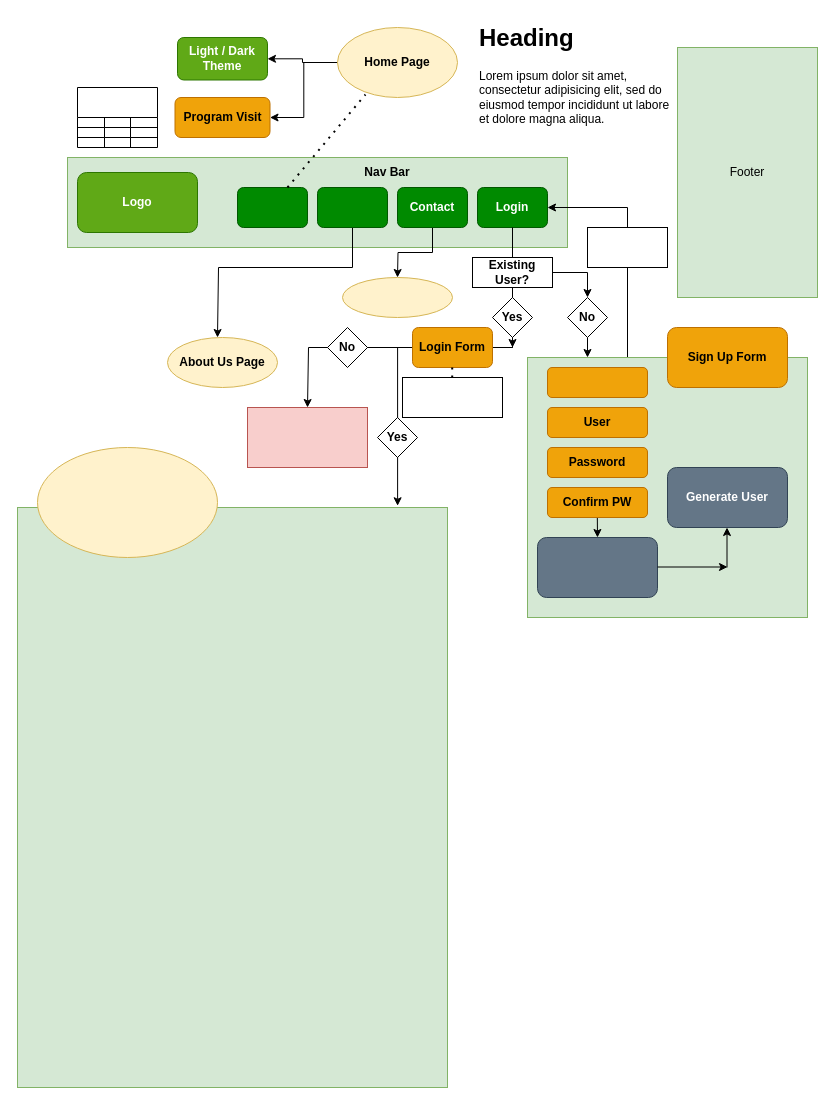
Some shapes in this 835 by 1105 pixel diagram are drawn without their labels. Each missing label, with the box of its shape:
About Us: (316, 186, 388, 228)
Account Created: (586, 226, 668, 268)
Banking Page: (36, 446, 218, 558)
Contact Page: (342, 276, 452, 318)
Correct Credentials?: (402, 376, 502, 418)
Email: (546, 366, 648, 398)
Home: (236, 186, 308, 228)
Login Failed Alert: (246, 406, 368, 468)
Time: (76, 86, 158, 148)
Validate Regex: (536, 536, 658, 598)
